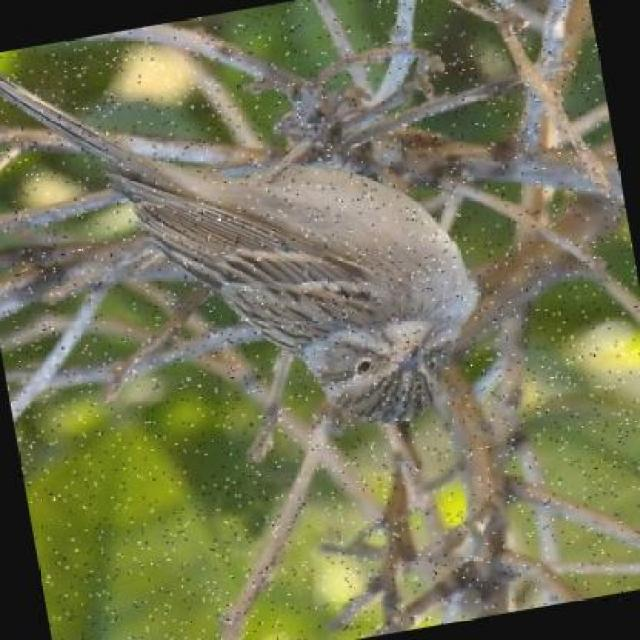Bird: (1, 76, 486, 427)
